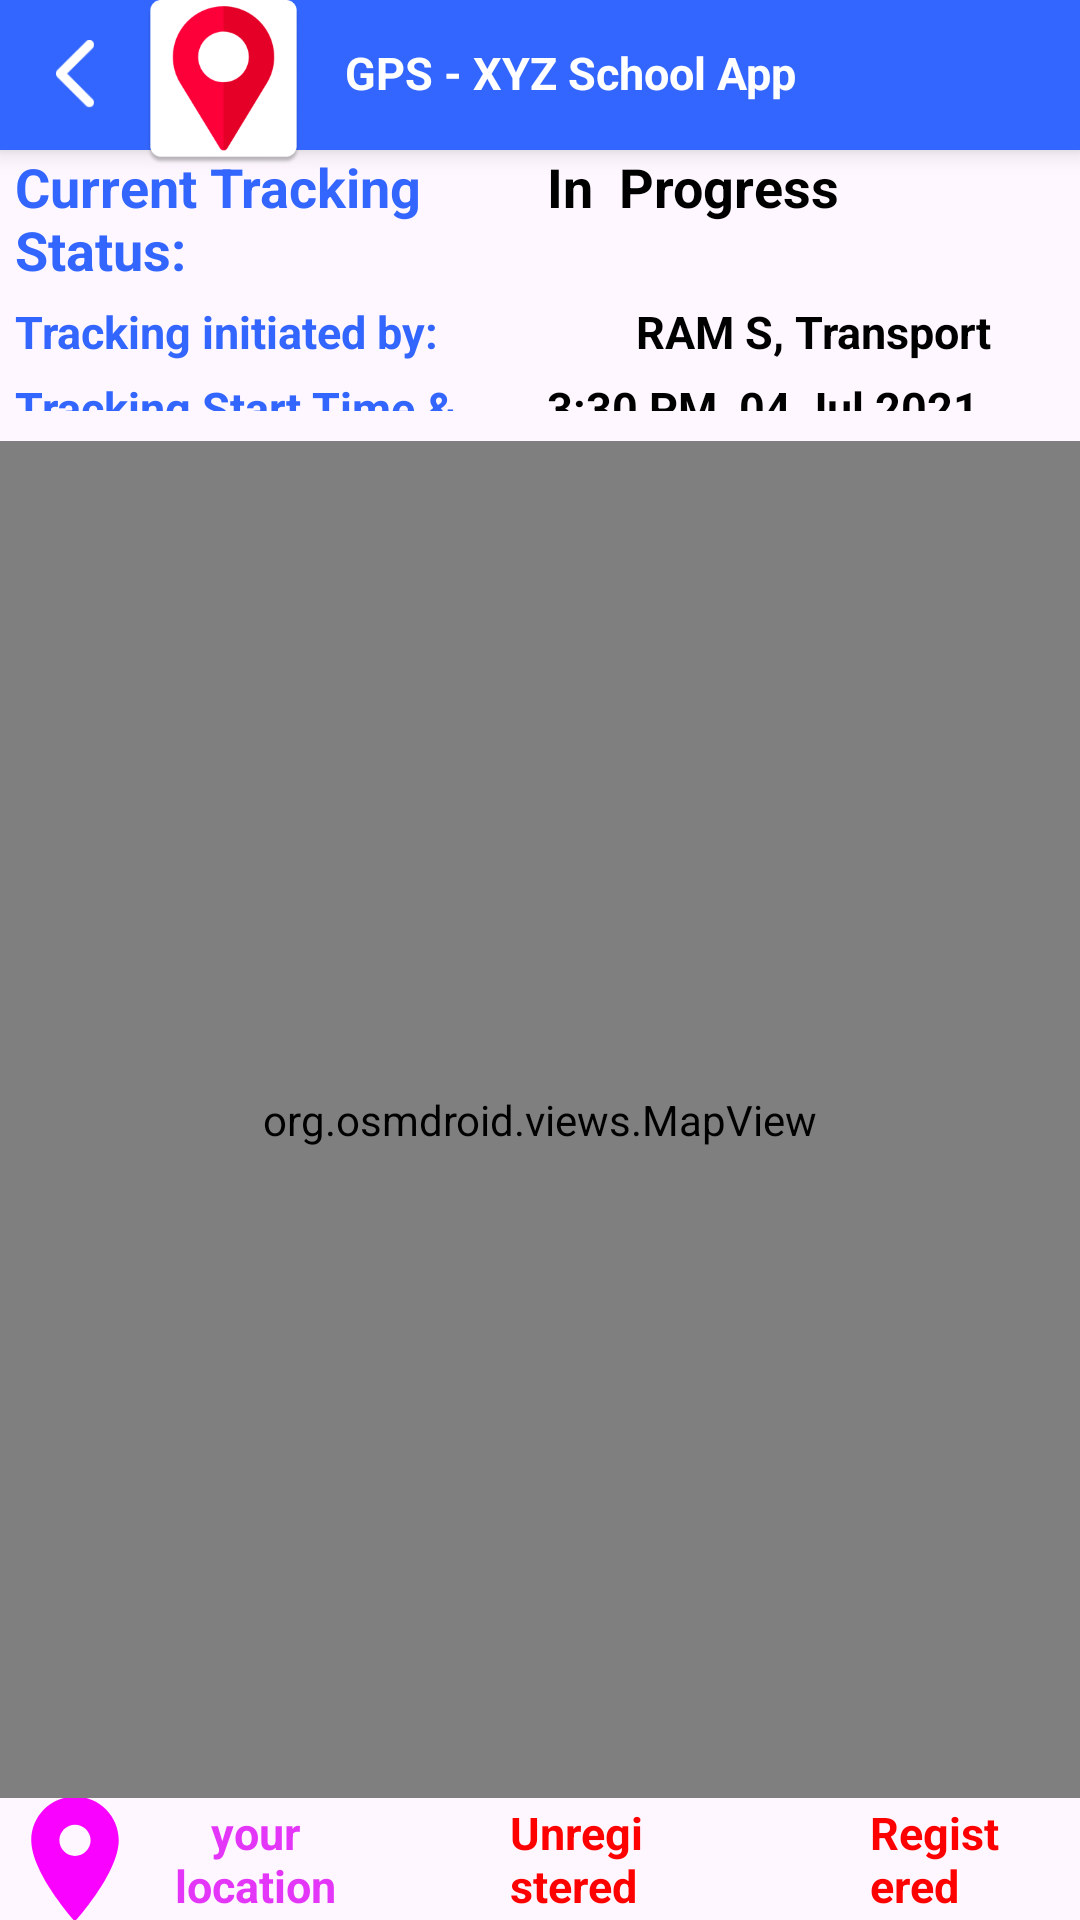

Locate icon controls on the screen. Image size 1080x1920, boxes as (x1, y1, x2, y2).
left arrow: (56, 40, 94, 108)
